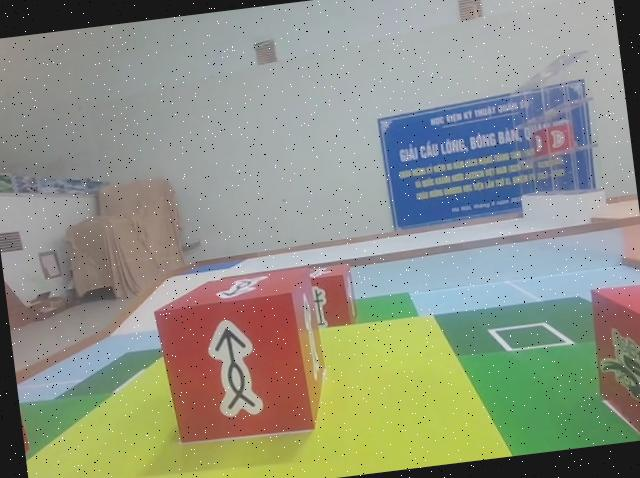R1: (583, 275, 640, 445)
R2 Real: (145, 262, 337, 453)
